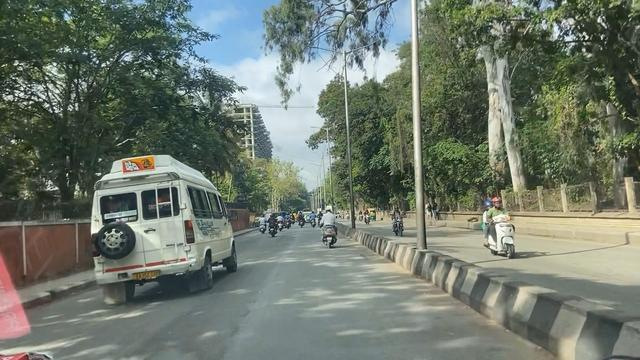HMV: (89, 180, 196, 304)
LMV: (267, 211, 277, 239)
